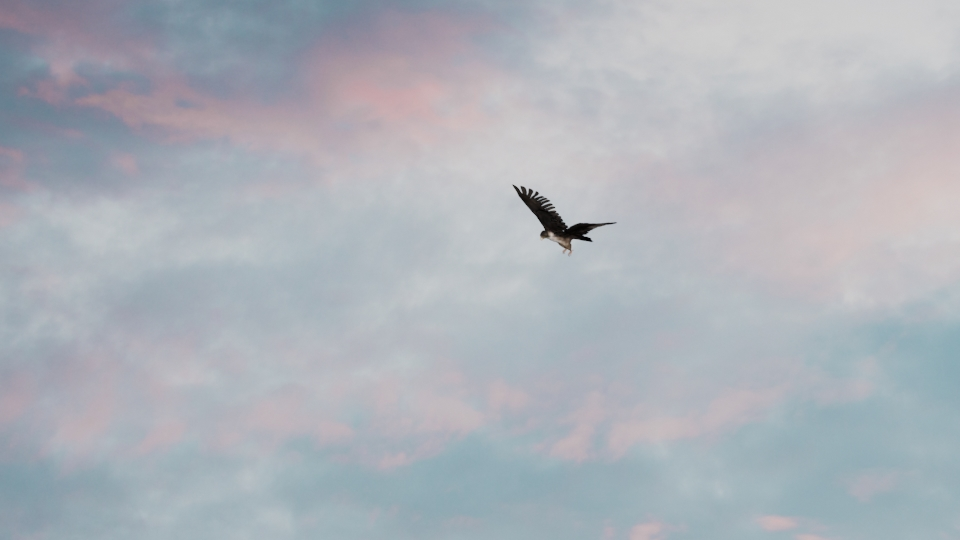bird: (509, 186, 608, 251)
